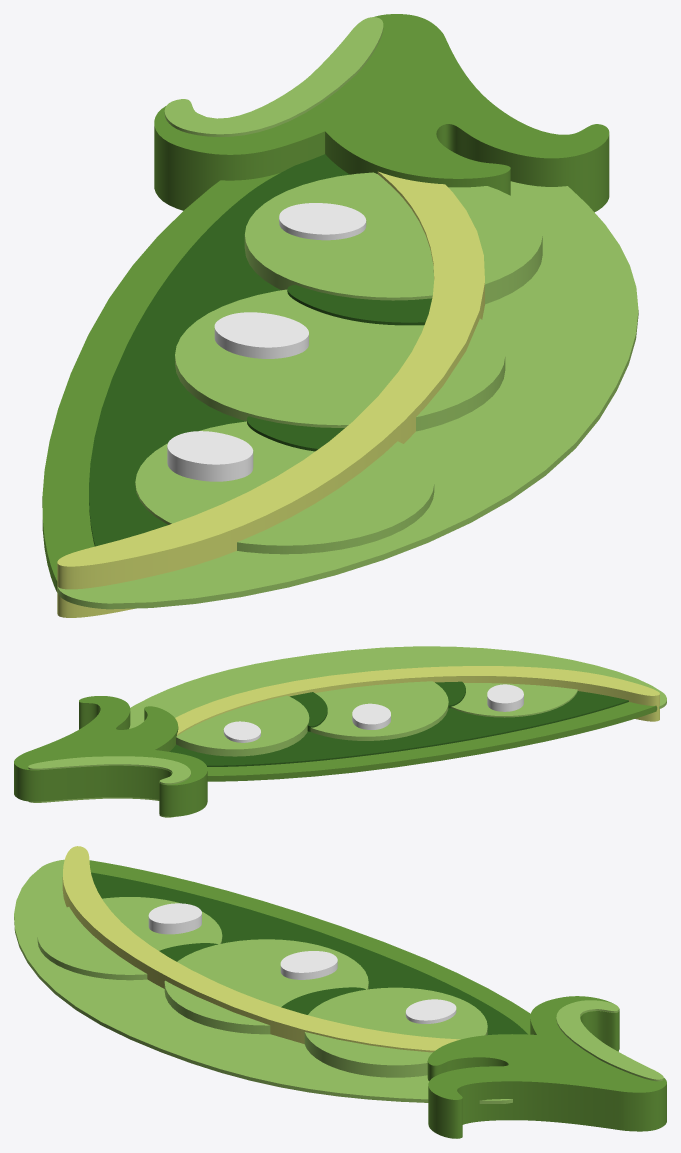
The model's file is emoji_u1fadb.glb.
3 views of the same model, one above another, from view 1: azimuth 30°, elevation 25°; view 2: azimuth 150°, elevation 25°; view 3: azimuth 270°, elevation 25° (orthographic). The views are drawn at different scales.
Parts seen in each view (by area): view 1: emoji_u1fadb; view 2: emoji_u1fadb; view 3: emoji_u1fadb.
Part boxes in pixels (box(x1,y1,x2,y2)): emoji_u1fadb: box(42, 14, 638, 617); emoji_u1fadb: box(14, 646, 666, 817); emoji_u1fadb: box(14, 846, 666, 1138).
Size of the model in its own units: 0.0314 by 0.0024 by 0.0335.
